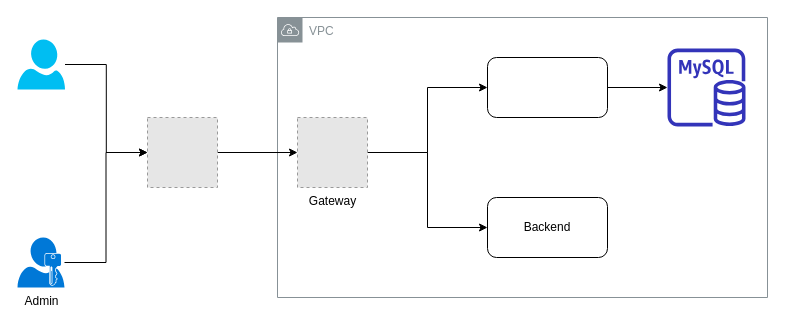
Some shapes in this 785 by 326 pixel diagram are drawn without their labels. Grey dashed boxes stand in for pictures. The box of each missing label's shape, as (x1, y1, x2, y2) in pixels:
User: (17, 39, 64, 89)
Vue-Blob: (486, 56, 608, 118)
